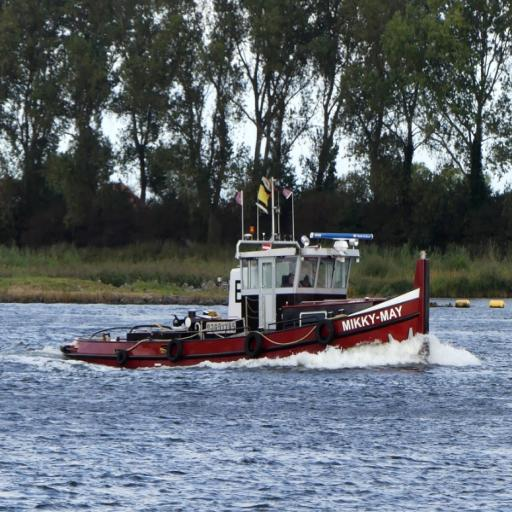tugboat: (57, 228, 435, 376)
